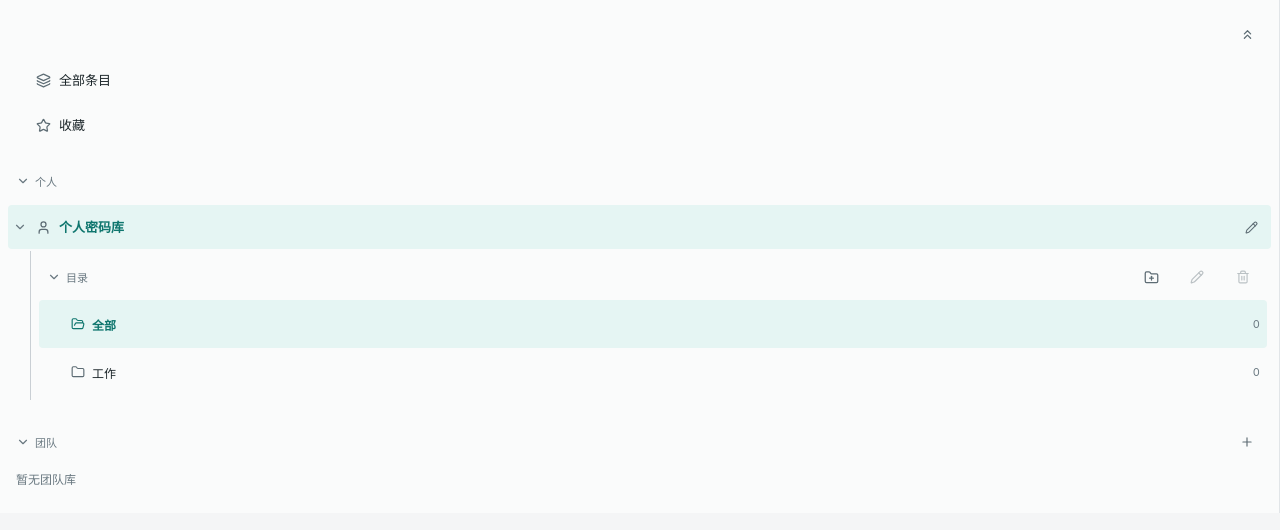
Test case: directory delete › only owners see the delete entry and it stays disabled until a real directory is selected
Check: the button named "先选择要删除的目录" is disabled, box [1221,255,1265,299]
Click the button with aria-label "目录：工作".
click(78, 372)  # box [68,350,1263,394]
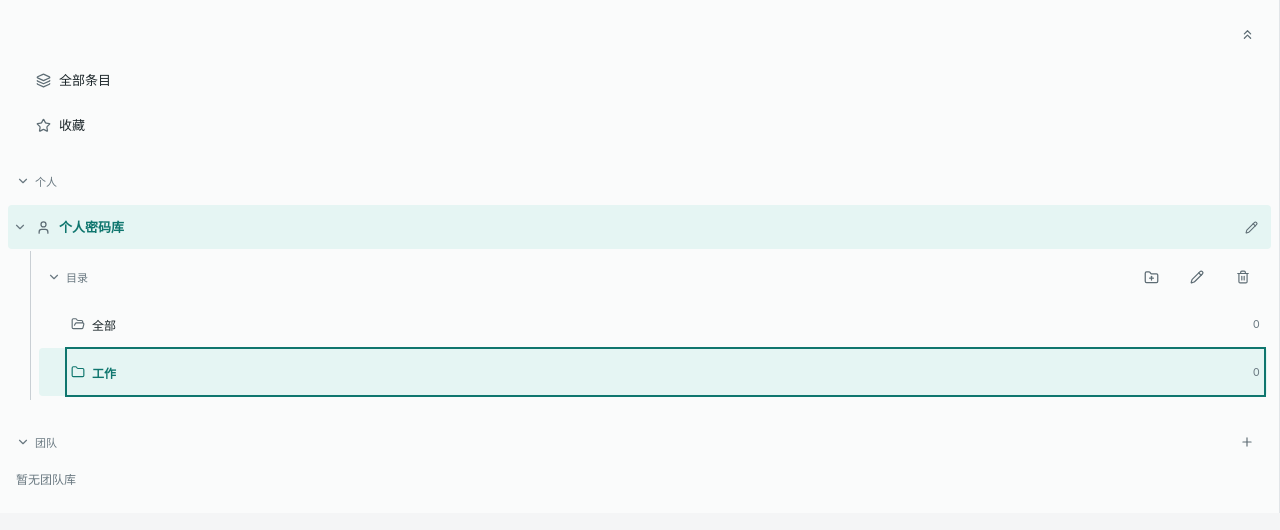
Check: the button named "删除当前目录" is enabled, box [1221,255,1265,299]
“全部”和“未分类”不可删除：选中“全部”时删除被禁用
Click the button with aria-label "目录：全部".
click(78, 324)  # box [68,302,1263,346]
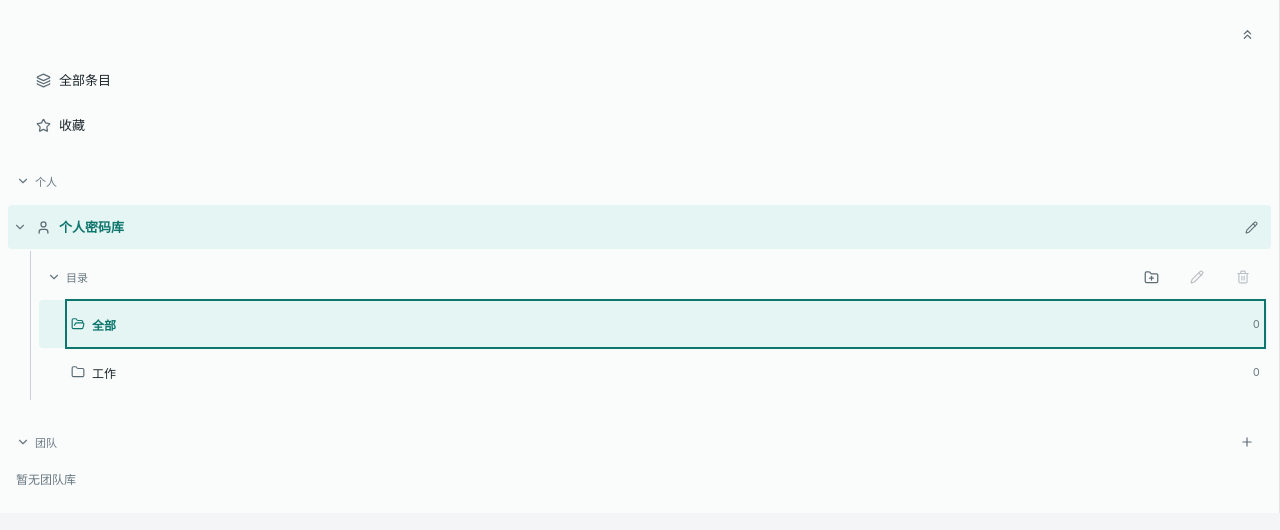
Check: the button named "先选择要删除的目录" is disabled, box [1221,255,1265,299]
